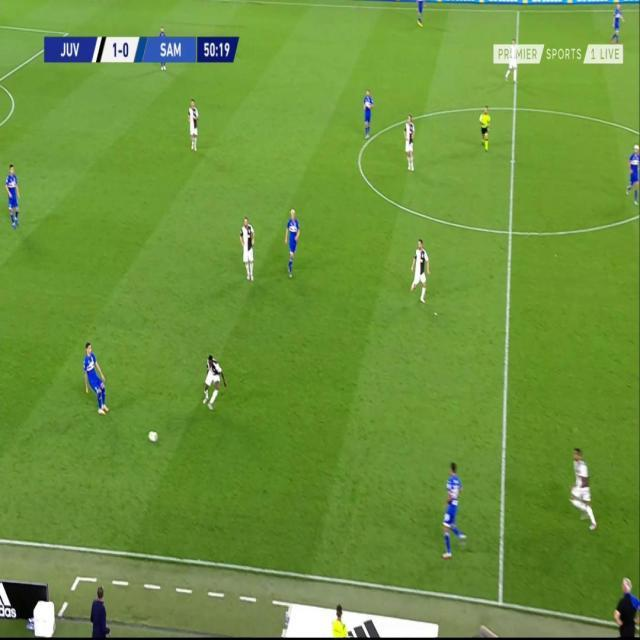ball: (148, 427, 159, 444)
player: (566, 442, 598, 532), (440, 457, 467, 563), (81, 339, 108, 417), (201, 352, 227, 414), (410, 236, 431, 306), (237, 212, 256, 283), (3, 159, 21, 233), (284, 206, 301, 281), (625, 137, 640, 208), (402, 112, 416, 173), (186, 97, 200, 152), (505, 37, 521, 83), (361, 86, 374, 140), (611, 2, 625, 43), (416, 0, 426, 26)
referee: (478, 104, 492, 153)
